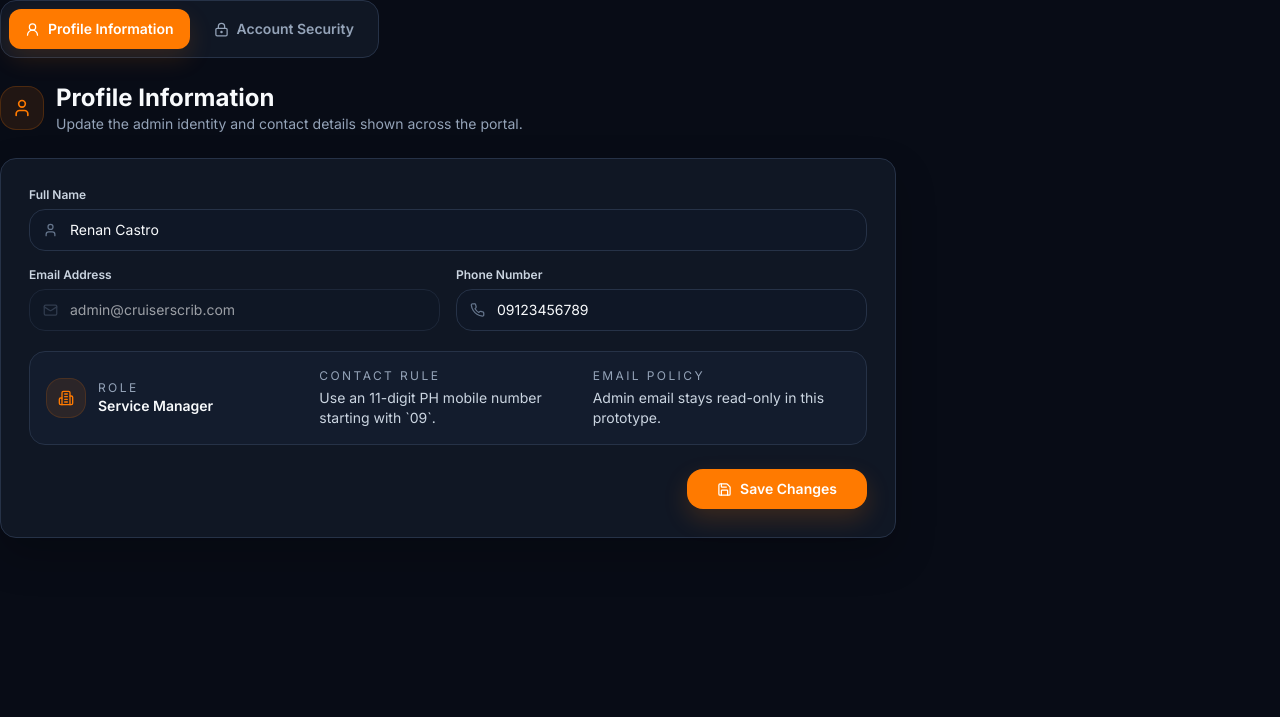
Scenario: SettingsWorkspace › renders profile information first and lets the admin switch to account security
The image size is (1280, 717).
Expected: the heading "Profile Information" is shown, [56,83,274,112]
Expected: the field labelled "Full Name" holds "Renan Castro", [29,209,867,251]
Step 1. Click the button "Account Security" → (284, 29), box [198,9,370,49]
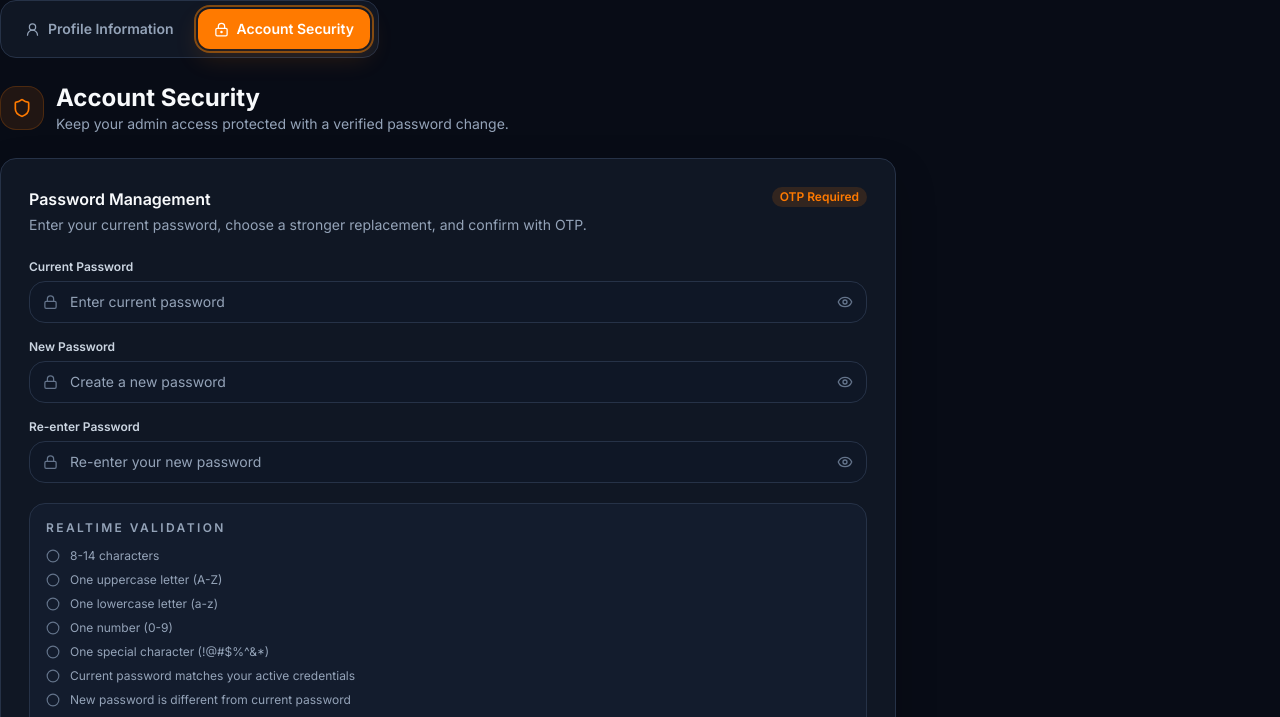
Expected: the heading "Account Security" is shown, [56,83,260,112]
Expected: the password field labelled "Current Password" is shown, [29,281,867,323]
Expected: the text "8-14 characters" is shown, [70,548,159,564]
